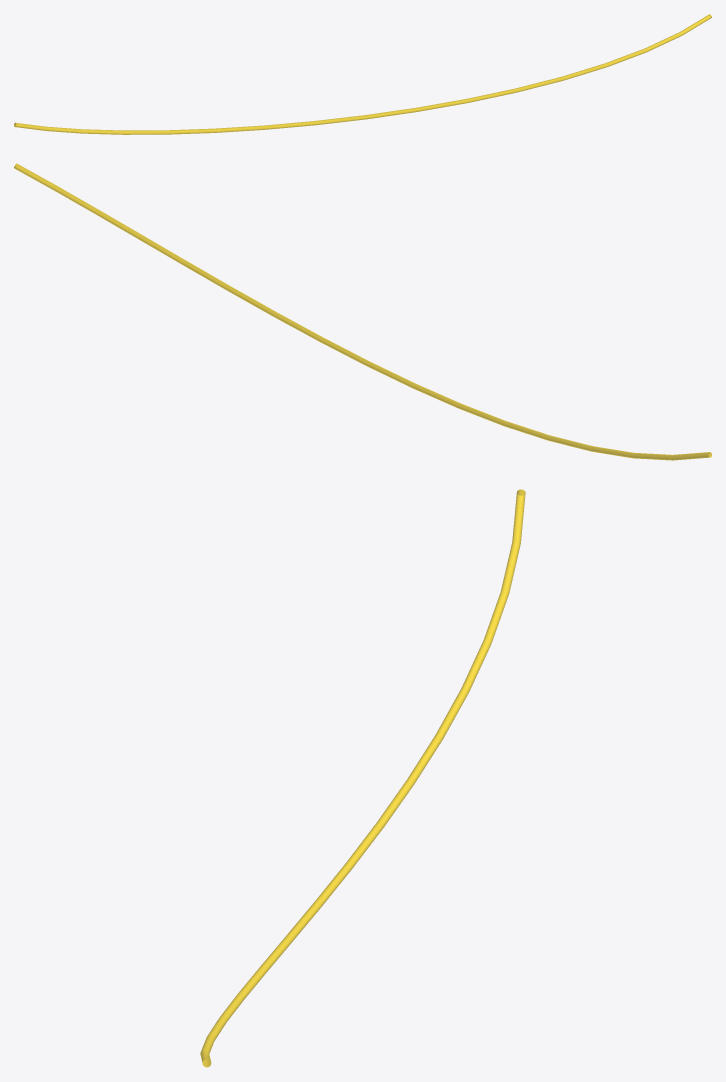
Rendered from Event_100608114_track_85.fbx.
3 renders of one model, top to bottom at view 1: azimuth 30°, elevation 25°; view 2: azimuth 150°, elevation 25°; view 3: azimuth 270°, elevation 25°, orthographic. The views are drawn at different scales.
Visible parts, largest first — view 1: Model; view 2: Model; view 3: Model.
Boxes of the visible parts, bbox=[...] form: Model: bbox=[14, 14, 711, 134]; Model: bbox=[14, 163, 711, 460]; Model: bbox=[200, 489, 525, 1067].
Size of the model in its own units: 6.5 by 0.5706 by 1.48.
